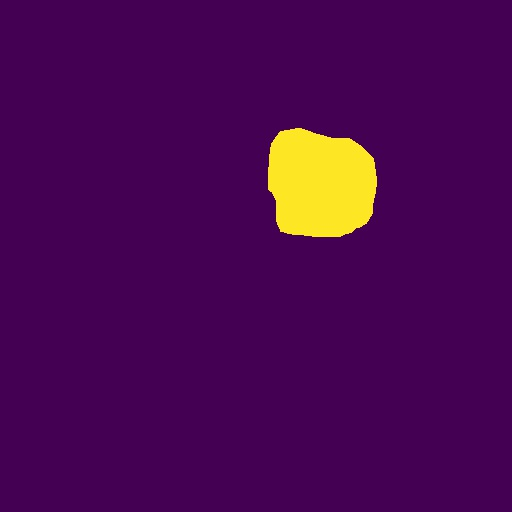Menigiomia_tumour: (268, 128, 377, 237)
